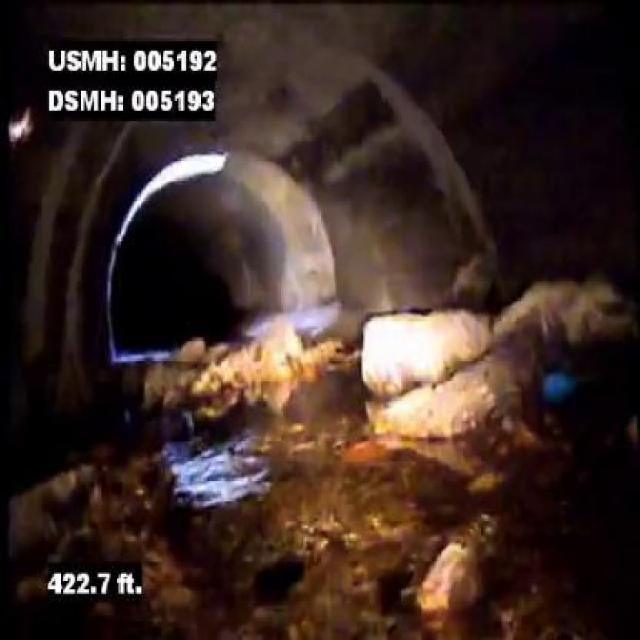Debris: (414, 509, 515, 629)
Obstacle: (354, 303, 543, 445)
